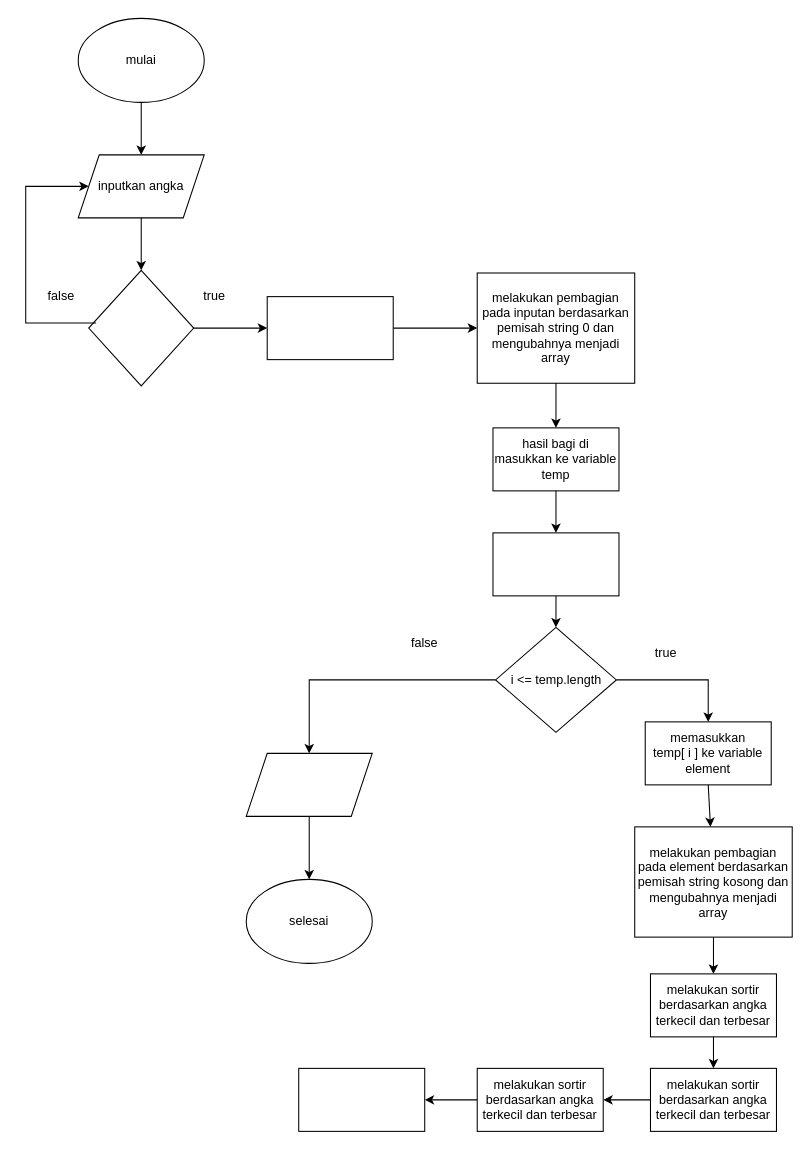
Some shapes in this 811 by 1150 pixel diagram are drawn without their labels. The box of each missing label's shape, as (x1, y1, x2, y2) in pixels:
hasilkan output result: (245, 752, 372, 816)
i = 0: (492, 532, 619, 596)
inputan = angka: (88, 269, 194, 386)
menampung data ke variable result: (298, 1067, 425, 1131)
mengubah inputan menjadi string: (266, 296, 393, 360)
